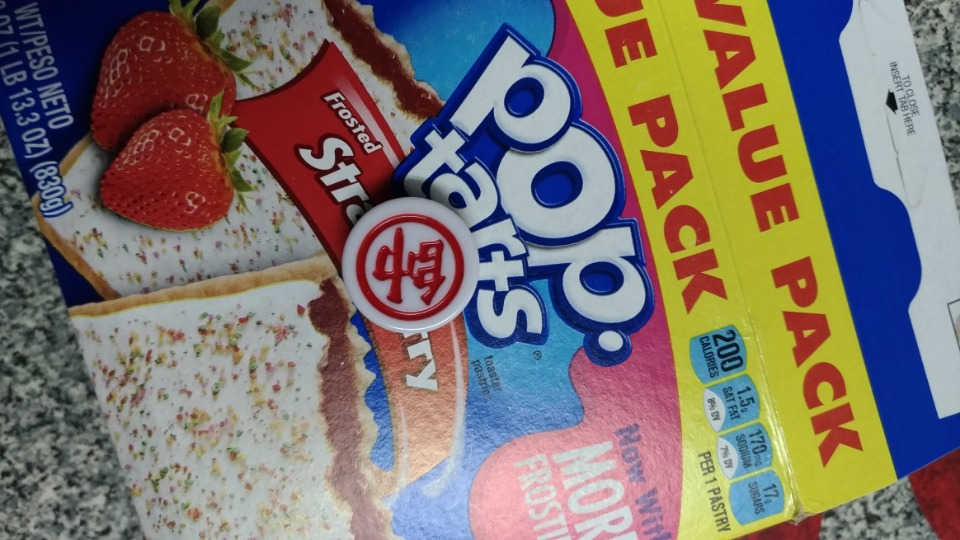r-king: (332, 193, 484, 338)
